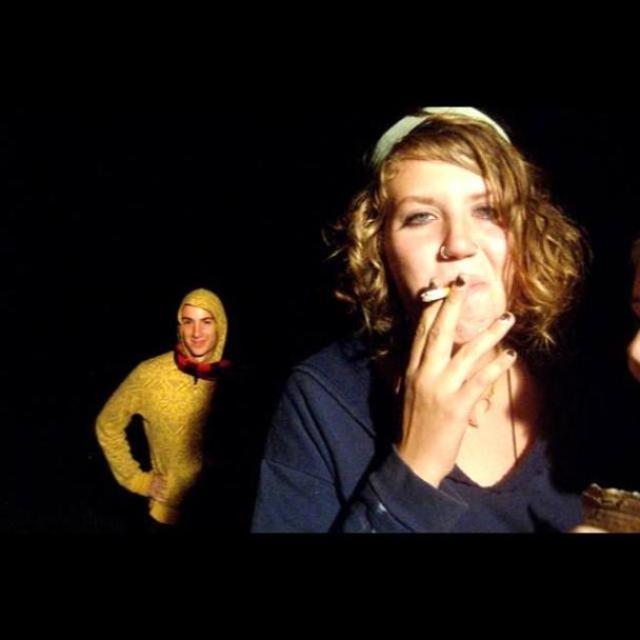rokok: (412, 282, 474, 304)
